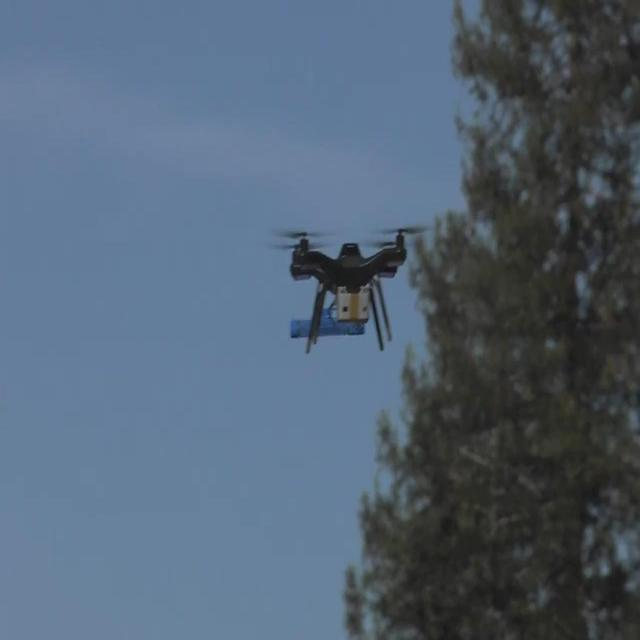drone: (265, 225, 428, 357)
